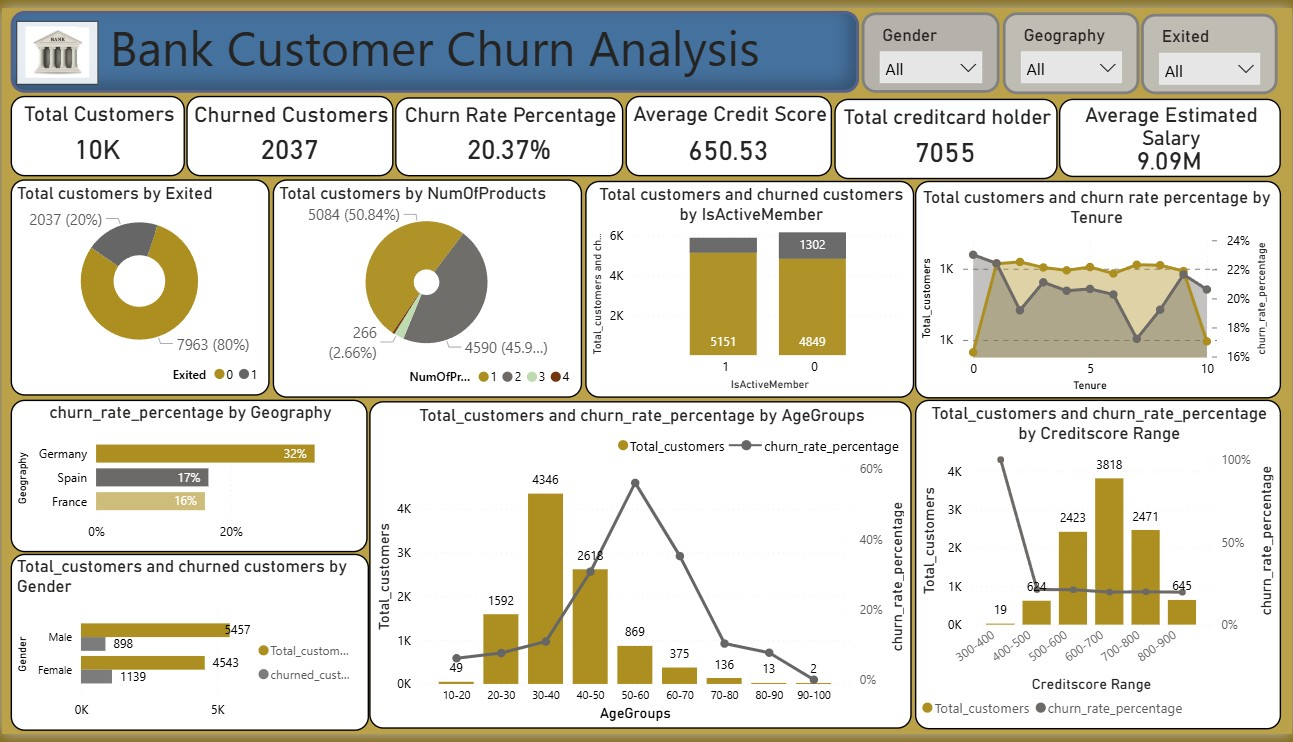

The dashboard page shown, as its layout file describes it:
{"tool":"powerbi","page":{"name":"Page 1","canvas":[1280,720],"ordinal":0},"visuals":[{"type":"clusteredBarChart","fields":{"Category":["BankCustomerChurns.Geography"],"Y":["BankChurn measures.churn_rate_percentage"]},"box":[15,388.3,348.3,151.7],"z":0},{"type":"clusteredBarChart","title":"Total_customers and churned customers by Gender","fields":{"Category":["BankCustomerChurns.Gender"],"Y":["BankChurn measures.Total_customers","BankChurn measures.churned_customers"]},"box":[15,541.7,350,175],"z":1000},{"type":"card","title":"Total Customers","fields":{"Values":["BankChurn measures.Total_customers"]},"box":[15,86.7,166.7,80],"z":2000},{"type":"card","title":"Churned Customers","fields":{"Values":["BankChurn measures.churned_customers"]},"box":[183.3,86.7,205,80],"z":3000},{"type":"card","title":"Churn Rate Percentage","fields":{"Values":["BankChurn measures.churn_rate_percentage"]},"box":[390,88.3,226.7,78.3],"z":4000},{"type":"textbox","box":[15,2.5,835,81.2],"z":5000},{"type":"donutChart","title":"Total customers by Exited","fields":{"Category":["BankCustomerChurns.Exited"],"Y":["BankChurn measures.Total_customers"]},"box":[15,170,251.7,215],"z":6000},{"type":"columnChart","title":"Total customers and churned customers by IsActiveMember","fields":{"Category":["BankCustomerChurns.IsActiveMember"],"Y":["BankChurn measures.Total_customers","BankChurn measures.churned_customers"]},"box":[578.3,171.7,326.7,215],"z":7000},{"type":"card","title":"Average Credit Score","fields":{"Values":["BankChurn measures.Average Credit Score"]},"box":[618.8,87.5,205,80],"z":8000},{"type":"lineClusteredColumnComboChart","fields":{"Category":["BankCustomerChurns.AgeGroups"],"Y":["BankChurn measures.Total_customers"],"Y2":["BankChurn measures.churn_rate_percentage"]},"box":[365,390,538.3,325],"z":9000},{"type":"donutChart","title":"Total customers by NumOfProducts","fields":{"Y":["BankChurn measures.Total_customers"],"Category":["BankCustomerChurns.NumOfProducts"]},"box":[268.3,170,306.7,216.7],"z":10000},{"type":"card","title":"Total creditcard holder","fields":{"Values":["BankChurn measures.Total credit cardholder"]},"box":[825,90,221.2,80],"z":11000},{"type":"areaChart","title":"Total customers and churn rate percentage         by Tenure","fields":{"Category":["BankCustomerChurns.Tenure"],"Y":["BankChurn measures.Total_customers"],"Y2":["BankChurn measures.churn_rate_percentage"]},"box":[905,171.7,363.3,215],"z":12000},{"type":"card","title":"Average Estimated Salary","fields":{"Values":["BankChurn measures.Average Estimated Salary"]},"box":[1048.8,90,220,77.5],"z":13000},{"type":"lineClusteredColumnComboChart","fields":{"Category":["BankCustomerChurns.Creditscore Range"],"Y2":["BankChurn measures.churn_rate_percentage"],"Y":["BankChurn measures.Total_customers"]},"box":[905,388.3,363.3,328.3],"z":14000},{"type":"image","box":[27.5,11.2,81.2,62.5],"z":15000},{"type":"slicer","fields":{"Values":["BankCustomerChurns.Gender"]},"box":[852.5,2.5,137.5,82.5],"z":16000},{"type":"slicer","fields":{"Values":["BankCustomerChurns.Exited"]},"box":[1130,2.5,136.2,85],"z":17000},{"type":"slicer","fields":{"Values":["BankCustomerChurns.Geography"]},"box":[992.4,3,136.4,81.8],"z":18000}]}

Visuals, with their boxes in screenshot pixels (x1, y1, x2, y2), scaled from the page's 1280x720 canvas onto the 1293x742 screenshot:
clusteredBarChart - BankCustomerChurns.Geography x BankChurn measures.churn_rate_percentage: x1=15 y1=400 x2=367 y2=556
"Total_customers and churned customers by Gender" clusteredBarChart: x1=15 y1=558 x2=369 y2=739
"Total Customers" card: x1=15 y1=89 x2=184 y2=172
"Churned Customers" card: x1=185 y1=89 x2=392 y2=172
"Churn Rate Percentage" card: x1=394 y1=91 x2=623 y2=172
textbox: x1=15 y1=3 x2=859 y2=86
"Total customers by Exited" donutChart: x1=15 y1=175 x2=269 y2=397
"Total customers and churned customers by IsActiveMember" columnChart: x1=584 y1=177 x2=914 y2=399
"Average Credit Score" card: x1=625 y1=90 x2=832 y2=173
lineClusteredColumnComboChart - BankCustomerChurns.AgeGroups x BankChurn measures.Total_customers: x1=369 y1=402 x2=912 y2=737
"Total customers by NumOfProducts" donutChart: x1=271 y1=175 x2=581 y2=399
"Total creditcard holder" card: x1=833 y1=93 x2=1057 y2=175
"Total customers and churn rate percentage         by Tenure" areaChart: x1=914 y1=177 x2=1281 y2=399
"Average Estimated Salary" card: x1=1059 y1=93 x2=1282 y2=173
lineClusteredColumnComboChart - BankCustomerChurns.Creditscore Range x BankChurn measures.churn_rate_percentage: x1=914 y1=400 x2=1281 y2=738
image: x1=28 y1=12 x2=110 y2=76
slicer - BankCustomerChurns.Gender: x1=861 y1=3 x2=1000 y2=88
slicer - BankCustomerChurns.Exited: x1=1141 y1=3 x2=1279 y2=90
slicer - BankCustomerChurns.Geography: x1=1002 y1=3 x2=1140 y2=87
